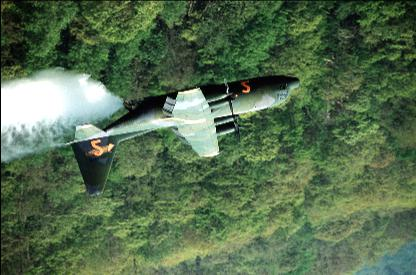Be200: (63, 75, 299, 195)
